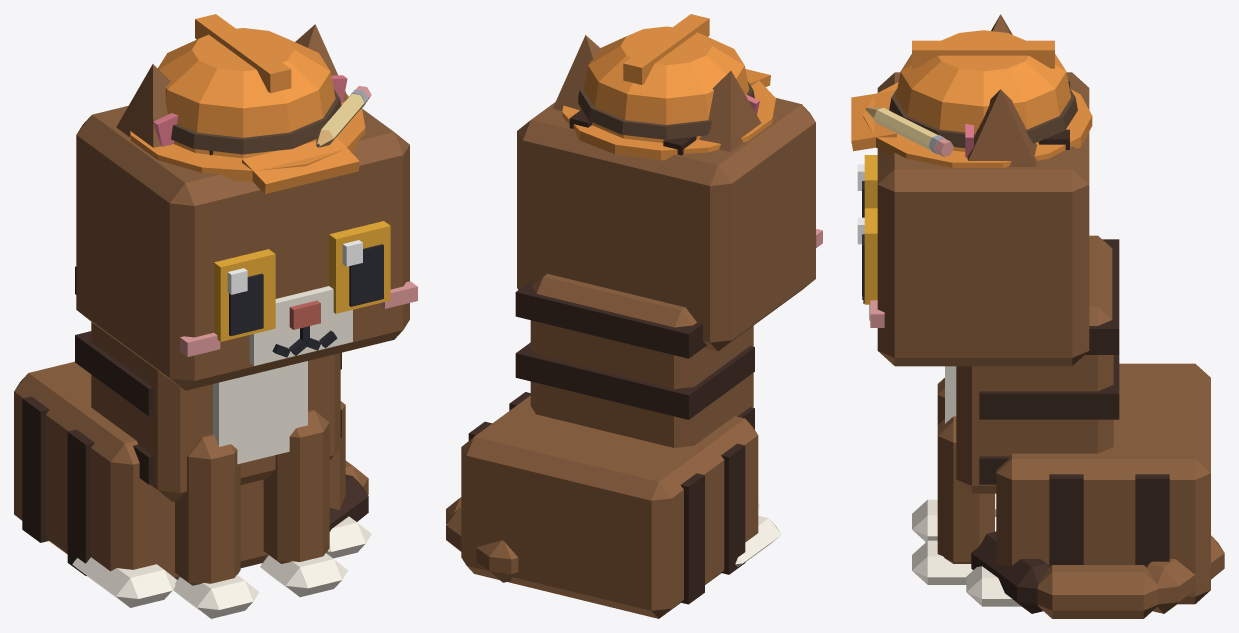
File: CatCafe_Cat_Builder_Sit.glb
3 views of the same model, side by side, from view 1: azimuth 30°, elevation 25°; view 2: azimuth 150°, elevation 25°; view 3: azimuth 270°, elevation 25° (orthographic). The views are drawn at different scales.
Parts seen in each view (by area): view 1: CatCafe_Cat_Builder_Sit_Head, CatCafe_Cat_Builder_Sit_Body, CatCafe_Cat_Builder_Sit_Prop, CatCafe_Cat_Builder_Sit_LegF2, CatCafe_Cat_Builder_Sit_LegF1, CatCafe_Cat_Builder_Sit_Eye2, CatCafe_Cat_Builder_Sit_Eye1, CatCafe_Cat_Builder_Sit_EarR, CatCafe_Cat_Builder_Sit_Tail, CatCafe_Cat_Builder_Sit_EarL; view 2: CatCafe_Cat_Builder_Sit_Body, CatCafe_Cat_Builder_Sit_Head, CatCafe_Cat_Builder_Sit_Prop, CatCafe_Cat_Builder_Sit_EarR, CatCafe_Cat_Builder_Sit_Tail, CatCafe_Cat_Builder_Sit_EarL; view 3: CatCafe_Cat_Builder_Sit_Body, CatCafe_Cat_Builder_Sit_Head, CatCafe_Cat_Builder_Sit_Prop, CatCafe_Cat_Builder_Sit_Tail, CatCafe_Cat_Builder_Sit_LegF1, CatCafe_Cat_Builder_Sit_EarL, CatCafe_Cat_Builder_Sit_Eye1, CatCafe_Cat_Builder_Sit_LegF2, CatCafe_Cat_Builder_Sit_Eye2.
Part boxes in pixels (bbox=[...]): CatCafe_Cat_Builder_Sit_Head: bbox=[76, 106, 417, 390]; CatCafe_Cat_Builder_Sit_Body: bbox=[14, 266, 371, 607]; CatCafe_Cat_Builder_Sit_Prop: bbox=[130, 14, 371, 193]; CatCafe_Cat_Builder_Sit_LegF2: bbox=[173, 434, 259, 618]; CatCafe_Cat_Builder_Sit_LegF1: bbox=[260, 410, 347, 597]; CatCafe_Cat_Builder_Sit_Eye2: bbox=[214, 249, 275, 341]; CatCafe_Cat_Builder_Sit_Eye1: bbox=[329, 221, 390, 313]; CatCafe_Cat_Builder_Sit_EarR: bbox=[116, 64, 178, 147]; CatCafe_Cat_Builder_Sit_Tail: bbox=[329, 460, 368, 531]; CatCafe_Cat_Builder_Sit_EarL: bbox=[295, 24, 348, 103]; CatCafe_Cat_Builder_Sit_Body: bbox=[461, 273, 781, 618]; CatCafe_Cat_Builder_Sit_Head: bbox=[517, 98, 822, 351]; CatCafe_Cat_Builder_Sit_Prop: bbox=[562, 14, 775, 160]; CatCafe_Cat_Builder_Sit_EarR: bbox=[699, 70, 761, 151]; CatCafe_Cat_Builder_Sit_Tail: bbox=[446, 497, 518, 582]; CatCafe_Cat_Builder_Sit_EarL: bbox=[553, 35, 601, 110]; CatCafe_Cat_Builder_Sit_Body: bbox=[945, 235, 1210, 606]; CatCafe_Cat_Builder_Sit_Head: bbox=[862, 72, 1089, 366]; CatCafe_Cat_Builder_Sit_Prop: bbox=[851, 30, 1092, 167]; CatCafe_Cat_Builder_Sit_Tail: bbox=[971, 531, 1224, 618]; CatCafe_Cat_Builder_Sit_LegF1: bbox=[912, 416, 994, 584]; CatCafe_Cat_Builder_Sit_EarL: bbox=[965, 89, 1037, 166]; CatCafe_Cat_Builder_Sit_Eye1: bbox=[857, 208, 877, 304]; CatCafe_Cat_Builder_Sit_LegF2: bbox=[912, 378, 944, 541]; CatCafe_Cat_Builder_Sit_Eye2: bbox=[857, 155, 877, 217].
Size of the model in its own units: 1.05 by 1.87 by 1.24.
1 material, 1 textured.
